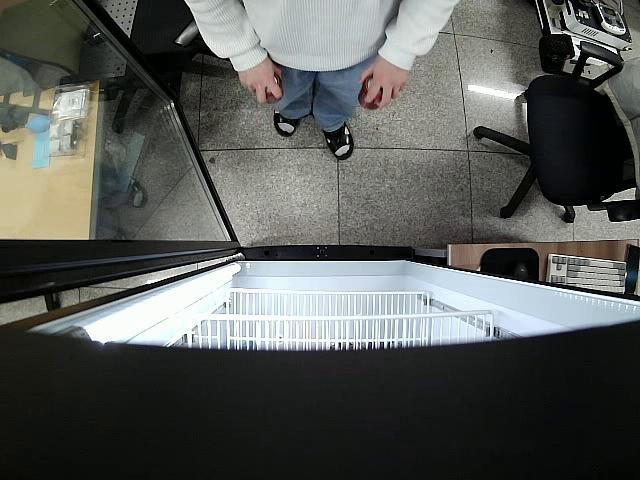11_cocaColaZero: (358, 73, 391, 112), (258, 74, 285, 106)
